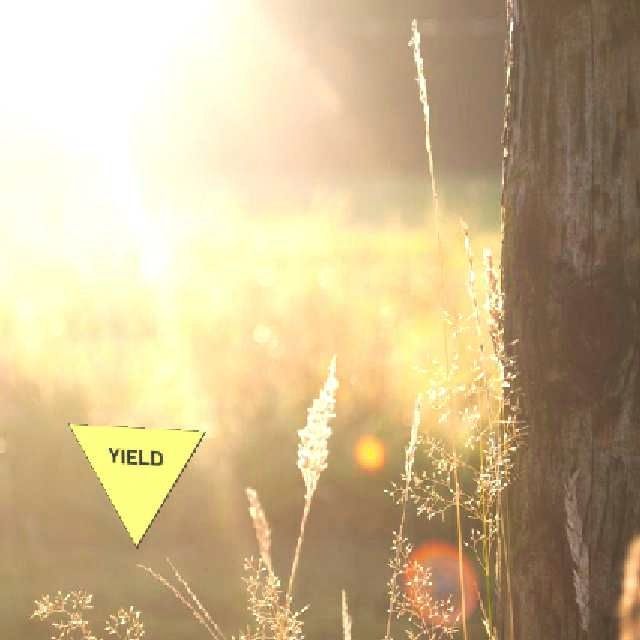YIELD: (66, 422, 205, 547)
